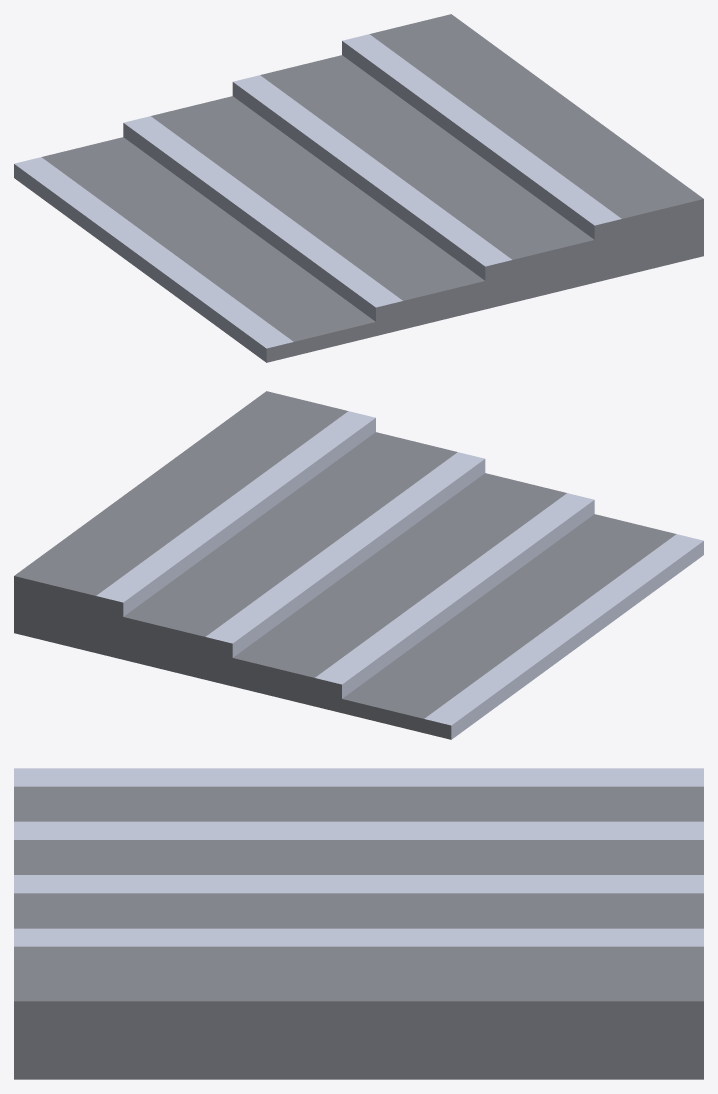
3 renders of one model, top to bottom at view 1: azimuth 30°, elevation 25°; view 2: azimuth 150°, elevation 25°; view 3: azimuth 270°, elevation 25°, orthographic. The views are drawn at different scales.
Visible parts, largest first — view 1: object_016; view 2: object_016; view 3: object_016.
Boxes of the visible parts, x1,y1,x2,y2 form: object_016: [14, 14, 703, 362]; object_016: [14, 391, 703, 739]; object_016: [14, 768, 703, 1079].
Size of the model in its own units: 10 by 1.25 by 10.
